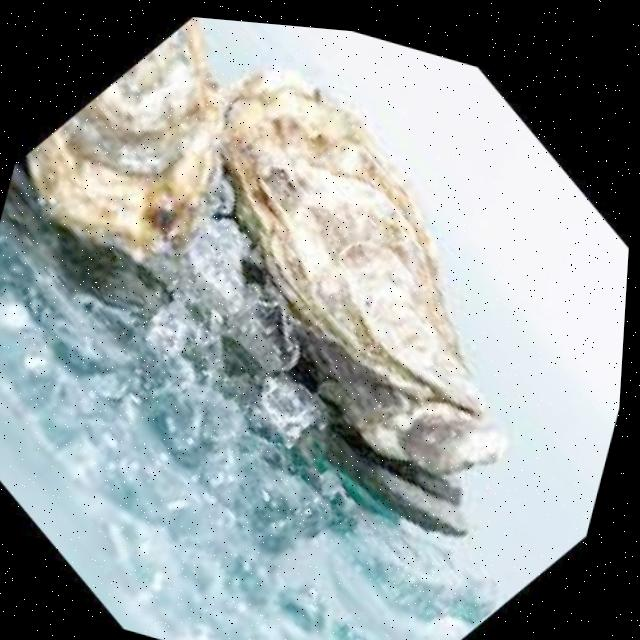Oyster-Closed: (221, 70, 491, 469)
Oyster-Indeterminate: (26, 19, 226, 263)
